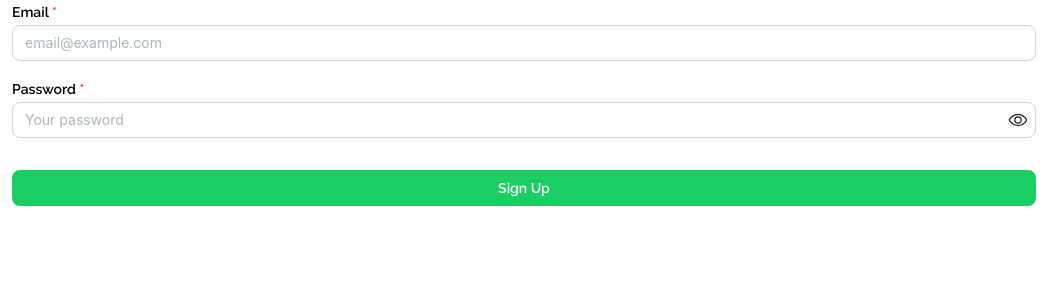
Test: SignUpForm › shows generic error when fetch fails
The image size is (1048, 294).
Type "new@example.com" into the field with placeholder "email@example.com" at {"x": 524, "y": 43}, box [12,25,1036,61]
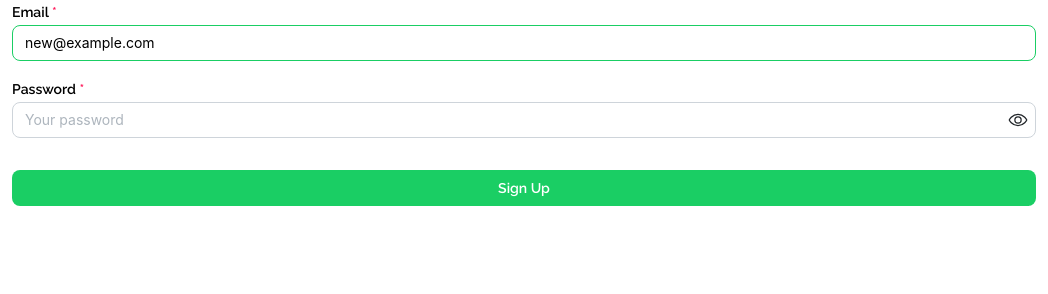
Type "secret" into the password field with placeholder "Your password" at {"x": 524, "y": 120}, box [13,103,1035,137]
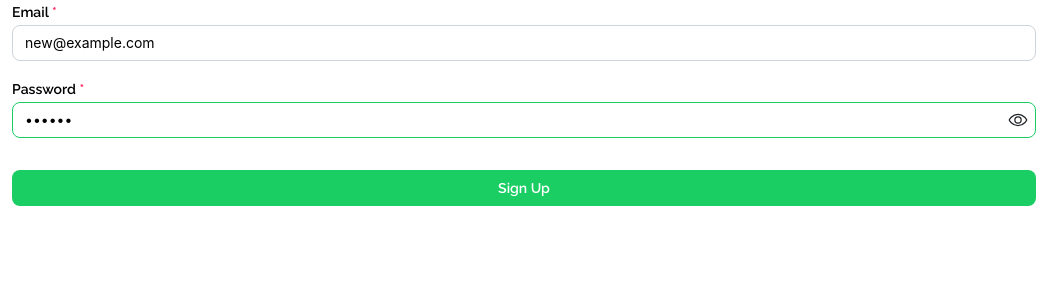
Click the button "Sign Up" at {"x": 524, "y": 188}, box [12,170,1036,206]
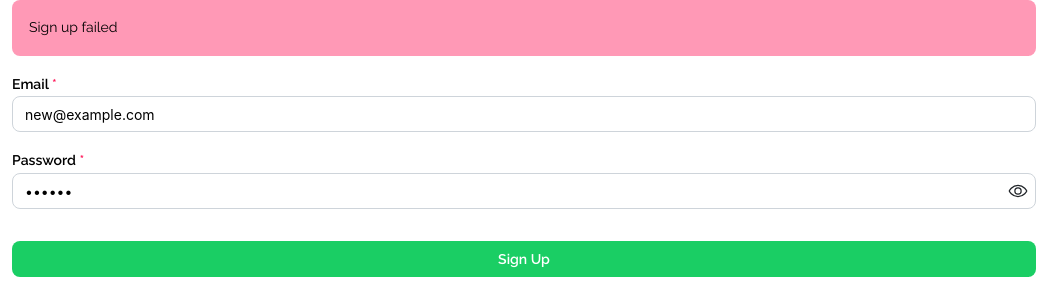
Expected: the text "Sign up failed" is shown, [29,19,118,35]
